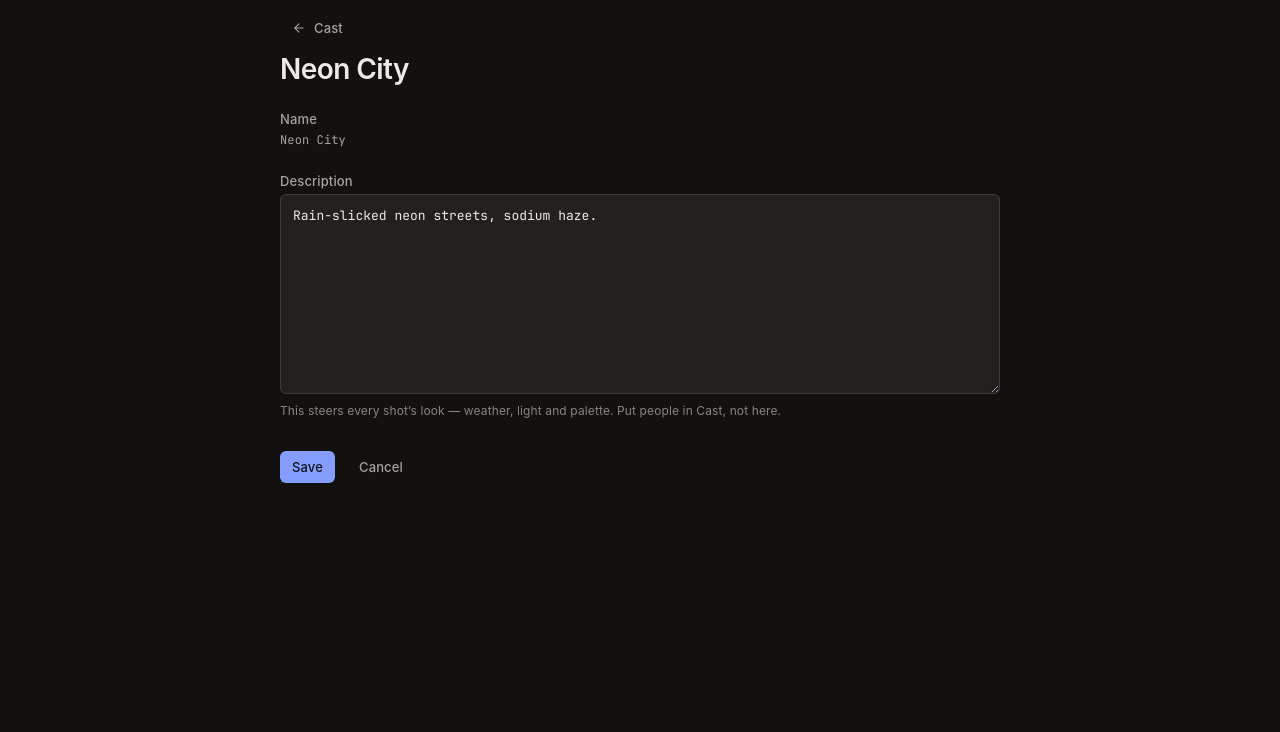
Test: Environment — edit mode › Save PUTs the bare description body (server owns the heading) and stays in edit mode
Clear the text box labelled "Description" at (640, 294), box [280,194,1000,394]
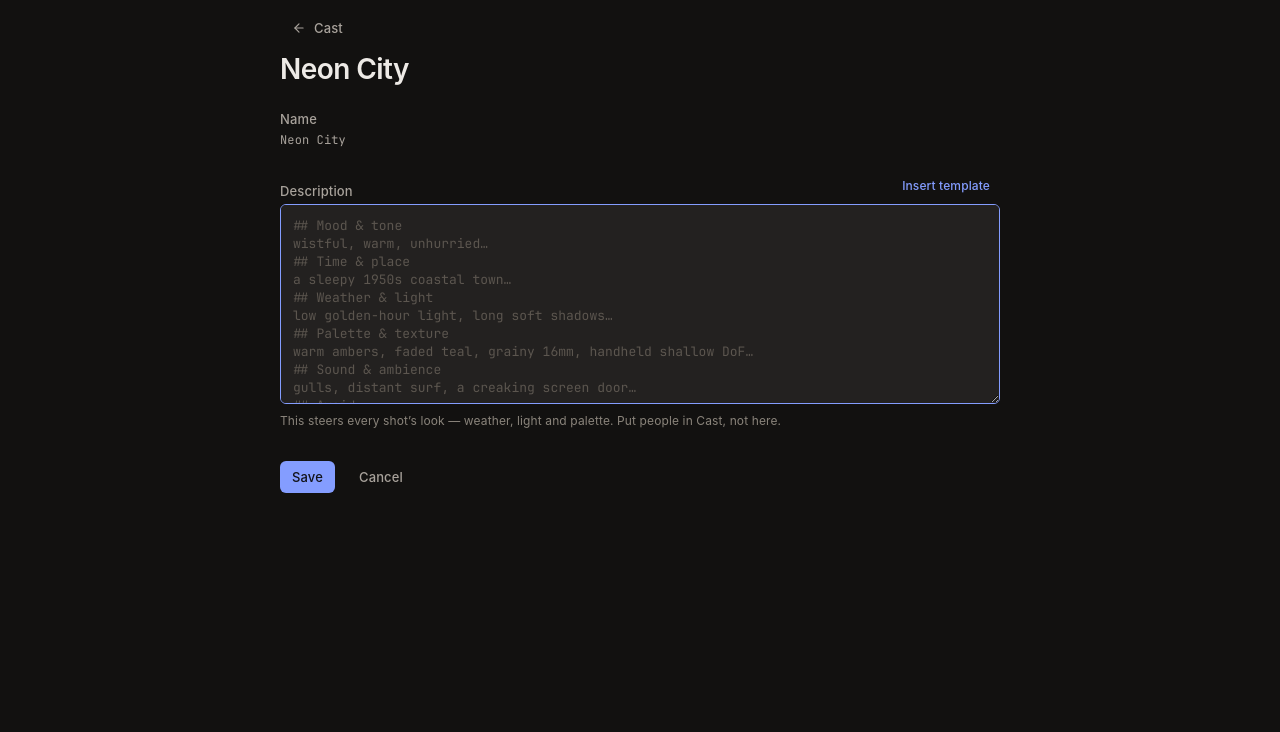
Type "Now the fog lifts at noon." into the text box labelled "Description" at (640, 304), box [280,204,1000,404]
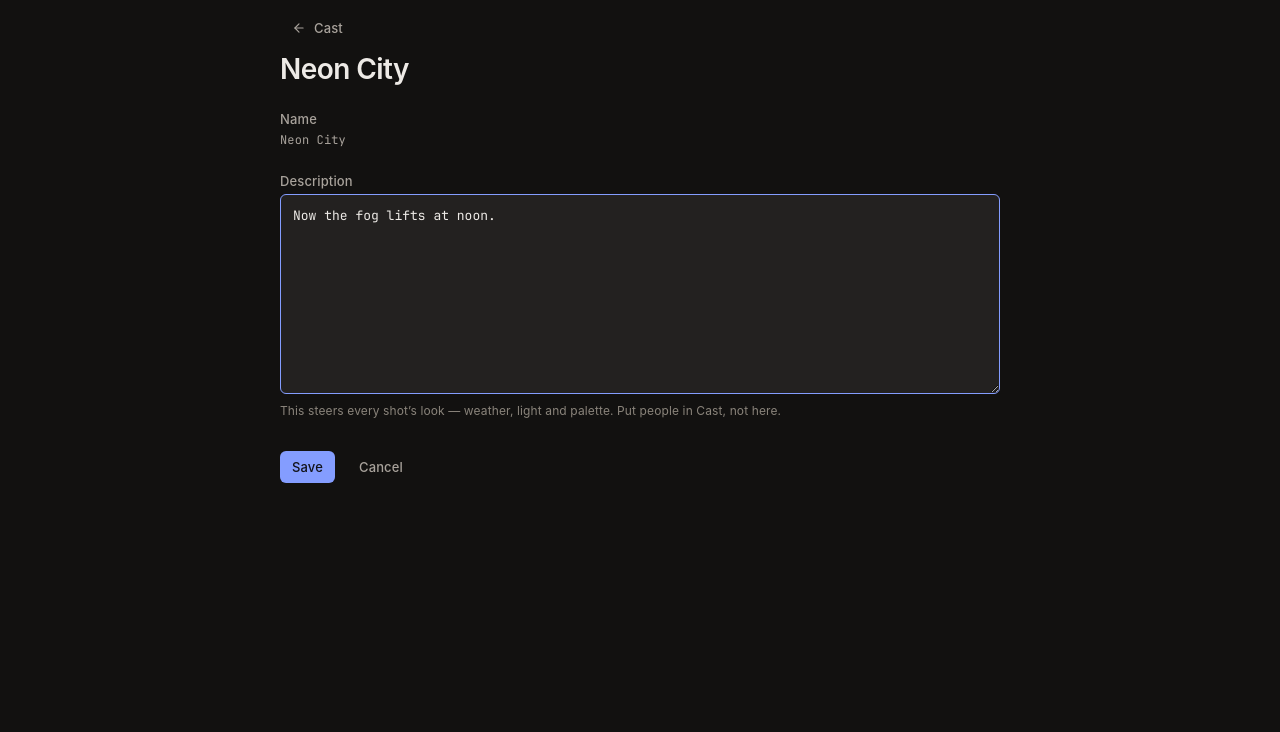
Click the button "Save" at (308, 467), box [280,451,335,483]
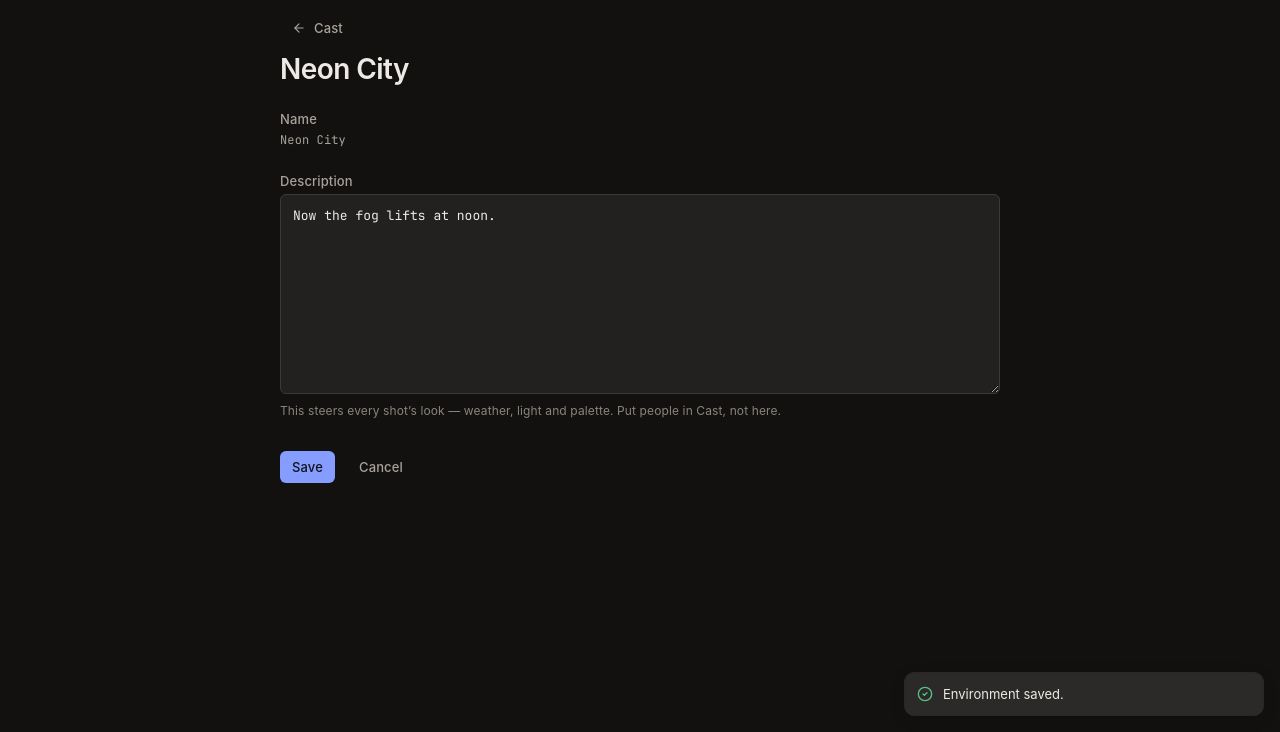
Check: the heading "Neon City" is shown, box [280,52,409,86]
Check: the text "Environment saved." is shown, box [943,686,1064,702]
